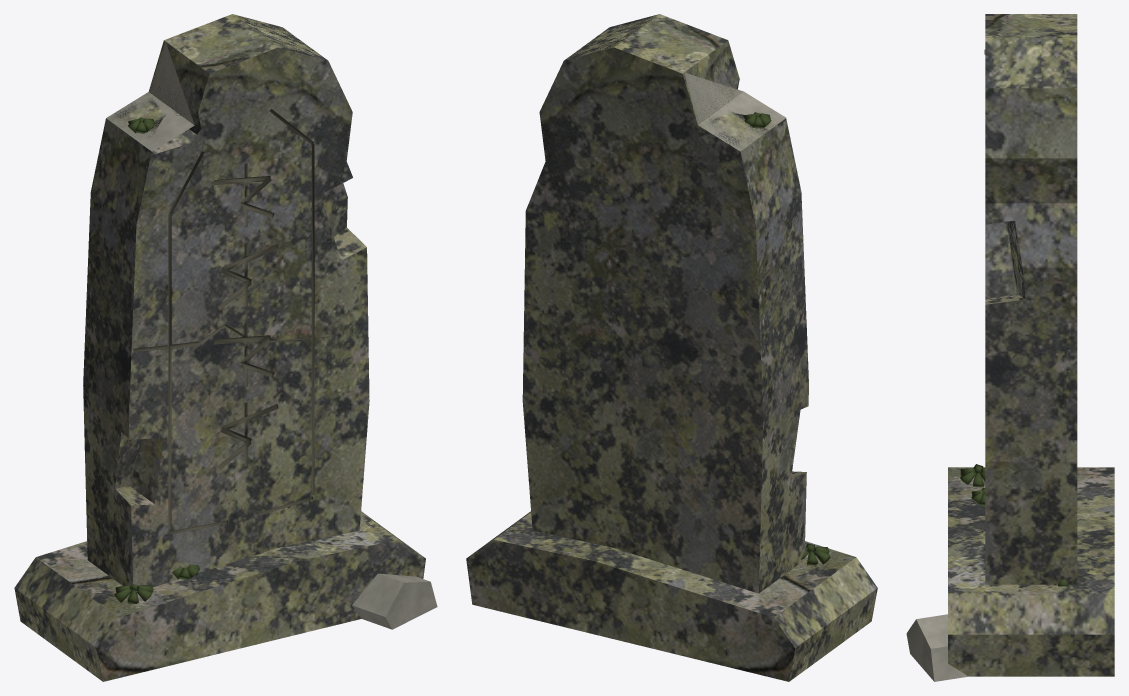
The model's file is broken_votive_stele.glb.
3 views of the same model, side by side, from view 1: azimuth 30°, elevation 25°; view 2: azimuth 150°, elevation 25°; view 3: azimuth 270°, elevation 25° (orthographic).
Parts seen in each view (by area): view 1: stele_weathered_stone_surface, stele_recessed_carving_surface, stele_old_fracture_surface, stele_cushion_moss_surface; view 2: stele_weathered_stone_surface, stele_old_fracture_surface, stele_cushion_moss_surface; view 3: stele_weathered_stone_surface, stele_old_fracture_surface, stele_cushion_moss_surface.
Part boxes in pixels (box(x1,y1,x2,y2)): stele_weathered_stone_surface: box(14, 14, 425, 681); stele_recessed_carving_surface: box(133, 108, 334, 534); stele_old_fracture_surface: box(106, 42, 437, 629); stele_cushion_moss_surface: box(114, 117, 199, 603); stele_weathered_stone_surface: box(466, 14, 877, 681); stele_old_fracture_surface: box(684, 72, 785, 151); stele_cushion_moss_surface: box(535, 112, 830, 565); stele_weathered_stone_surface: box(948, 14, 1114, 676); stele_old_fracture_surface: box(906, 49, 985, 681); stele_cushion_moss_surface: box(960, 464, 1078, 586).
Bounding box in the file's own units: 1.1 × 1.8 × 0.5872.
Materials: 4 (4 with a texture image).
